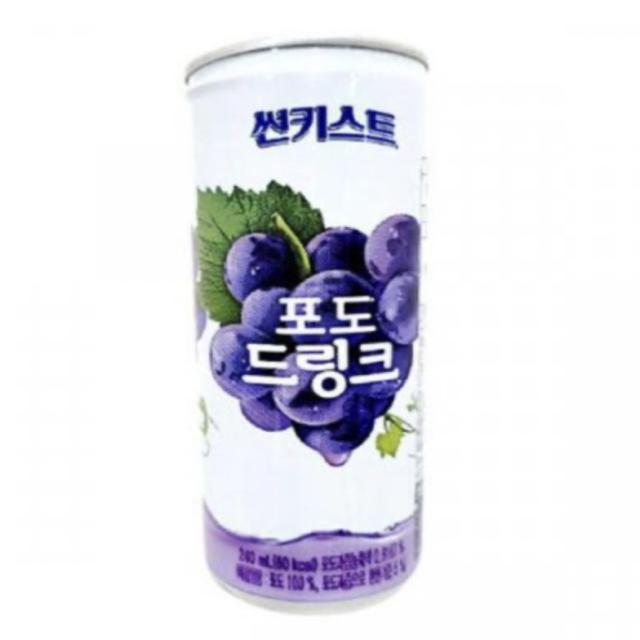recyclable: (164, 14, 460, 622)
